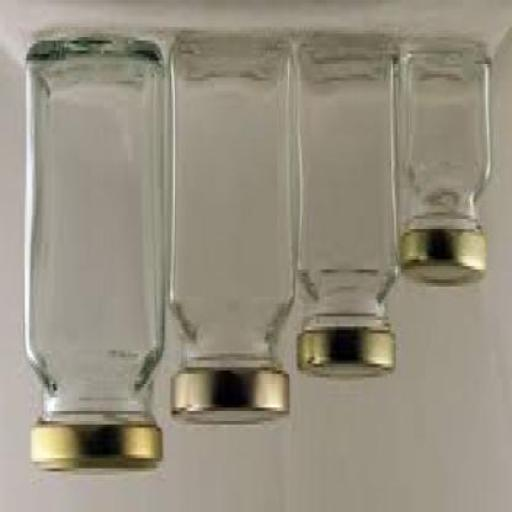glass: (28, 40, 170, 424), (170, 44, 298, 371), (296, 37, 402, 330), (400, 50, 492, 232)
metal: (32, 421, 166, 471), (173, 374, 291, 428), (296, 330, 398, 380), (402, 236, 488, 290)
